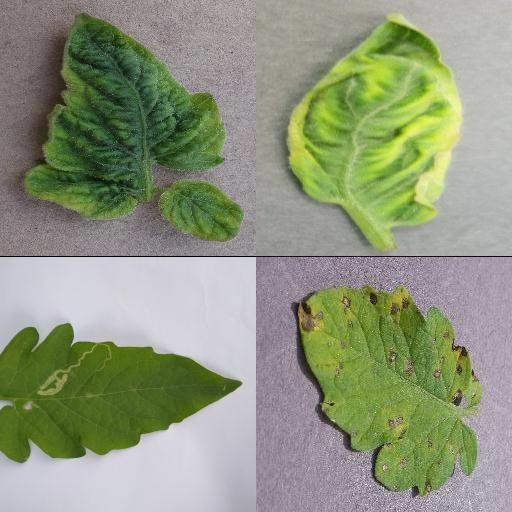Leaf Miner: (0, 320, 242, 463)
Septoria: (292, 282, 482, 493)
Yellow Leaf Curl Virus: (23, 11, 227, 221), (287, 13, 463, 227), (157, 177, 245, 243)
